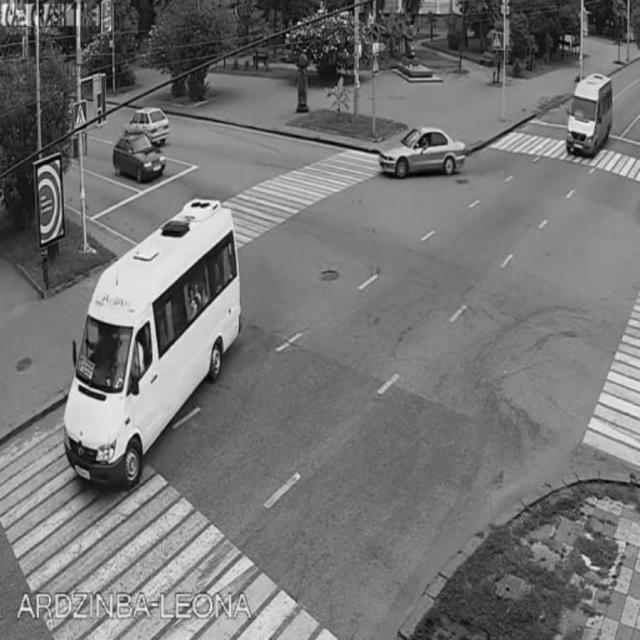vehicle: (64, 193, 242, 473), (381, 129, 464, 176), (569, 71, 613, 159), (113, 135, 163, 190), (134, 102, 170, 144)
